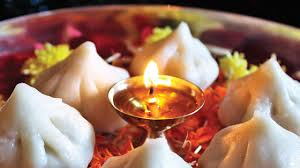modak: (34, 41, 135, 136), (1, 80, 106, 168), (133, 19, 227, 90), (220, 52, 300, 121), (207, 109, 300, 161)
